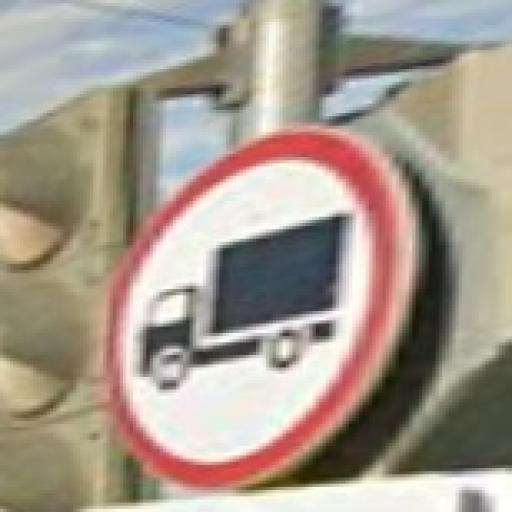traffic_sign: (104, 121, 427, 495)
